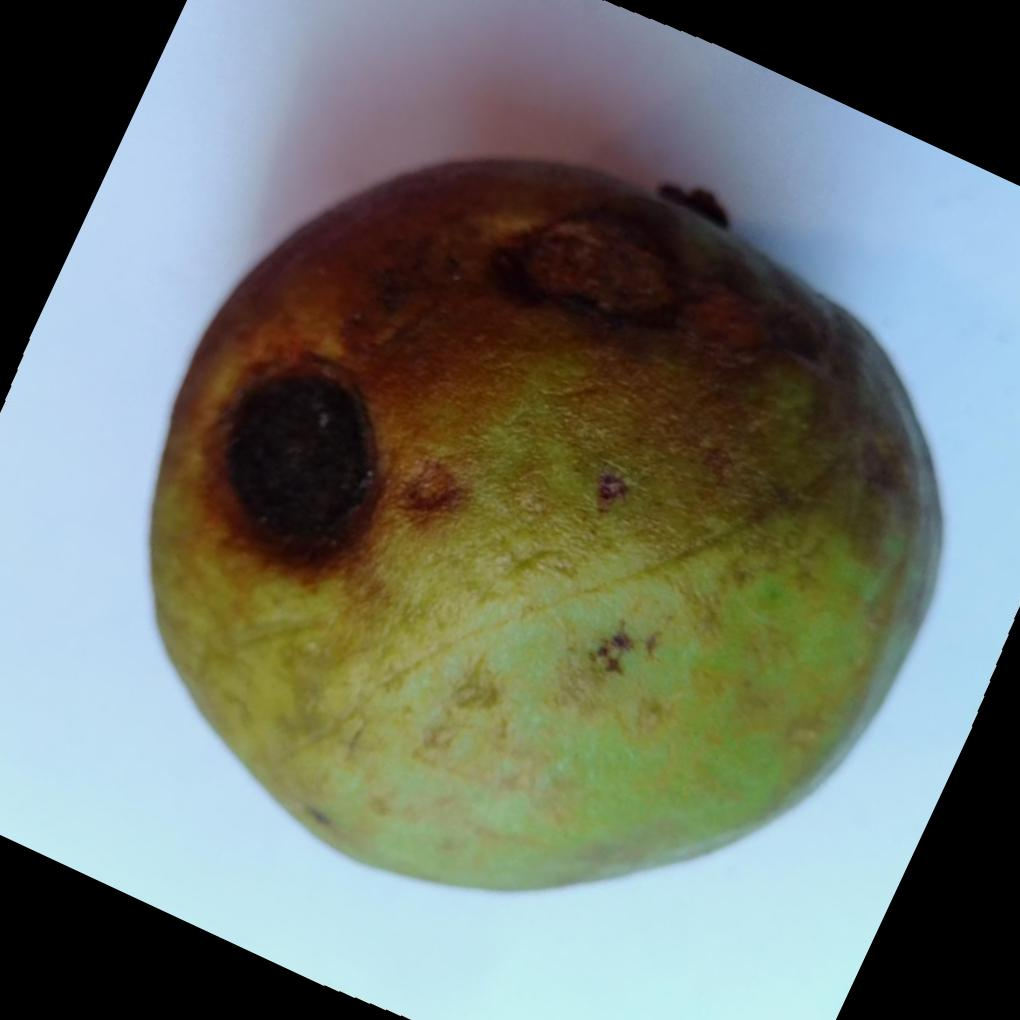FreshOrange: (147, 151, 945, 891)
